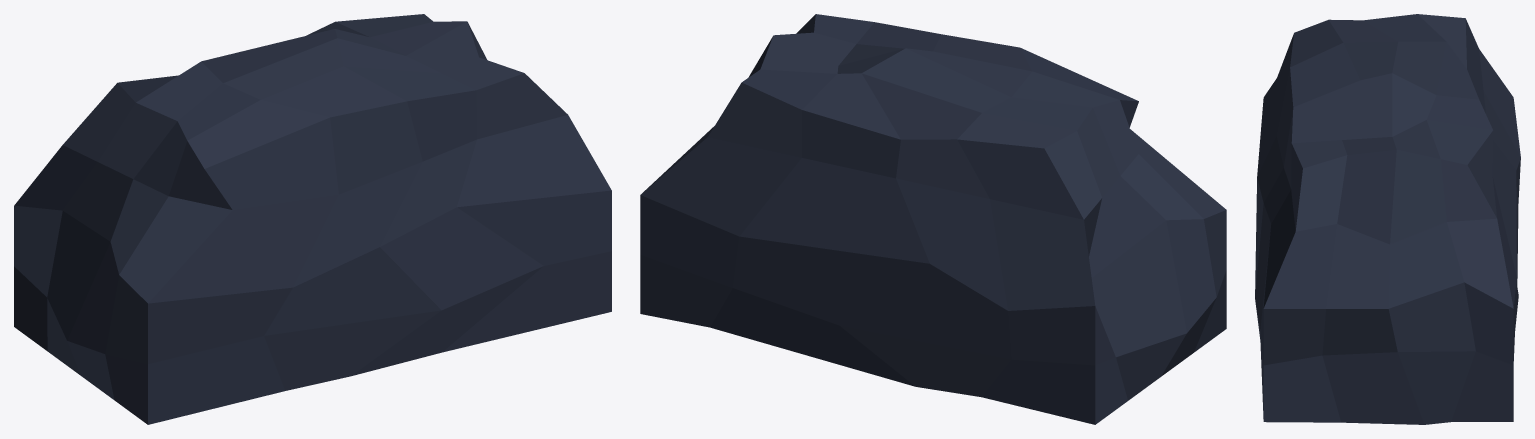
The model's file is rock2.glb.
3 renders of one model, left to right at view 1: azimuth 30°, elevation 25°; view 2: azimuth 150°, elevation 25°; view 3: azimuth 270°, elevation 25°, orthographic. The views are drawn at different scales.
Parts seen in each view (by area): view 1: Cube; view 2: Cube; view 3: Cube.
Boxes of the visible parts, x1,y1,x2,y2 form: Cube: [14, 14, 611, 424]; Cube: [640, 14, 1226, 424]; Cube: [1255, 14, 1520, 424].
Size of the model in its own units: 4.2 by 2.28 by 2.13.
